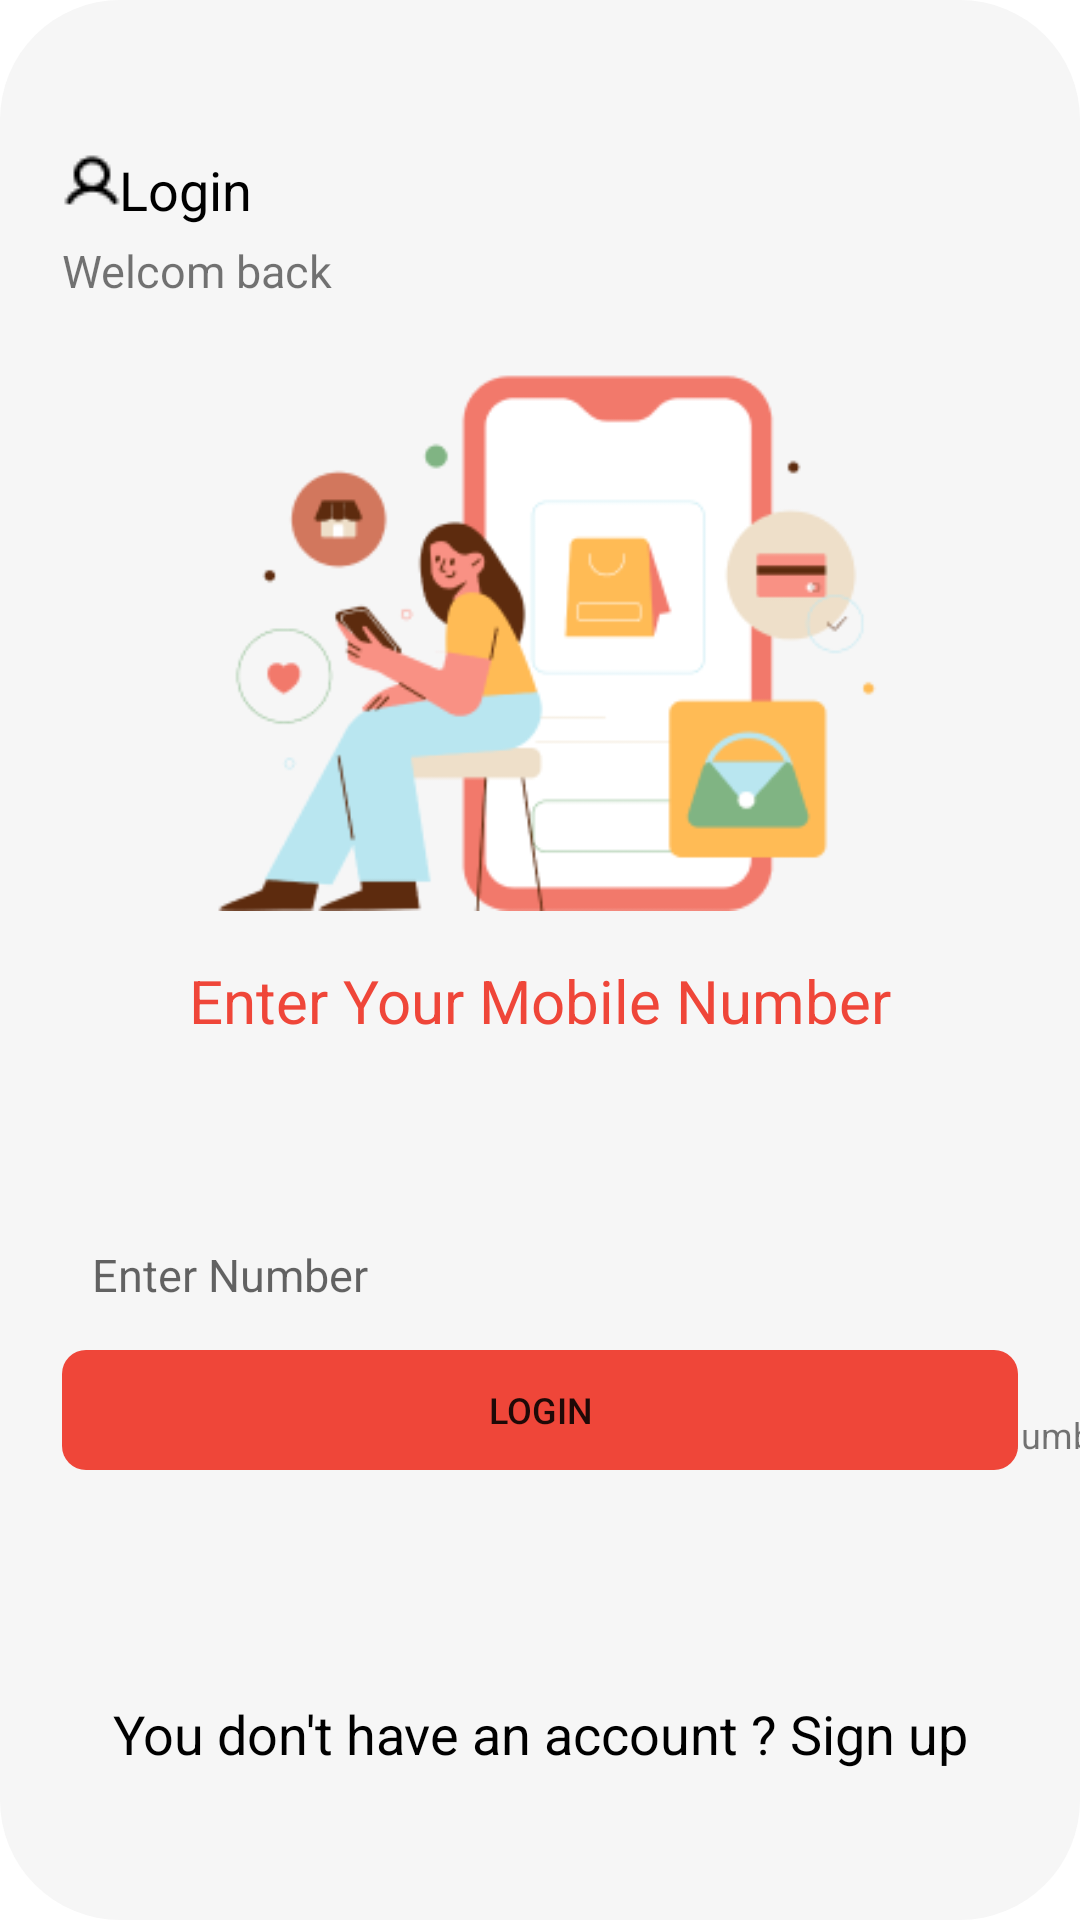

Point at icon controls on the screen. Image size 1080x1920, points as point (x, y).
user: point (92, 180)
